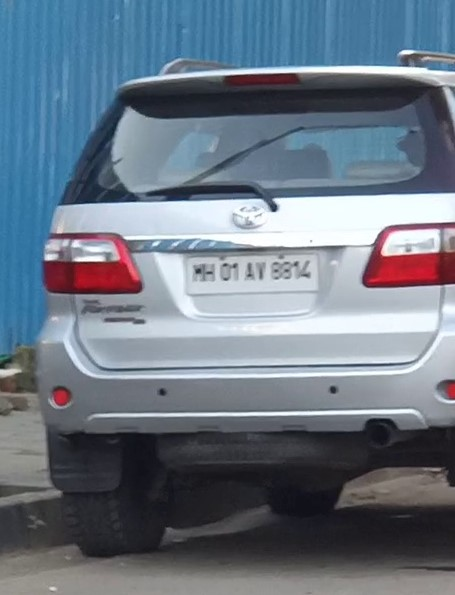MH01AV8814: (185, 254, 319, 292)
